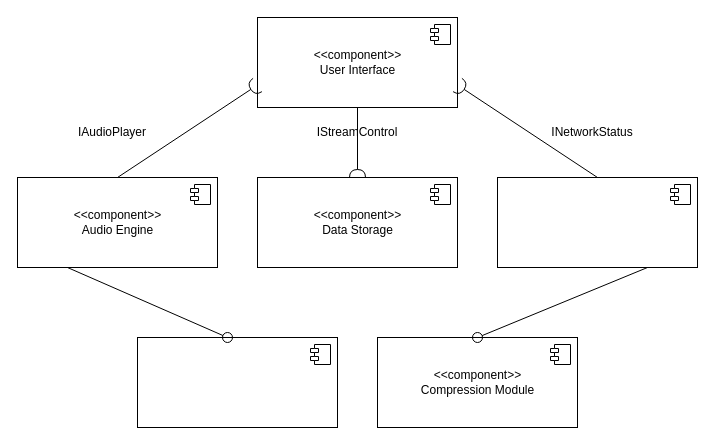
Image size: 715x445. Some labels were removed from this diagram. The shapes that lost their labels are listed below. From the top down, each one's centre as x and y in pixels, then its label:
At (597,222): "<<component>> Network Handler".
At (237,382): "<<component>> Cache System".
